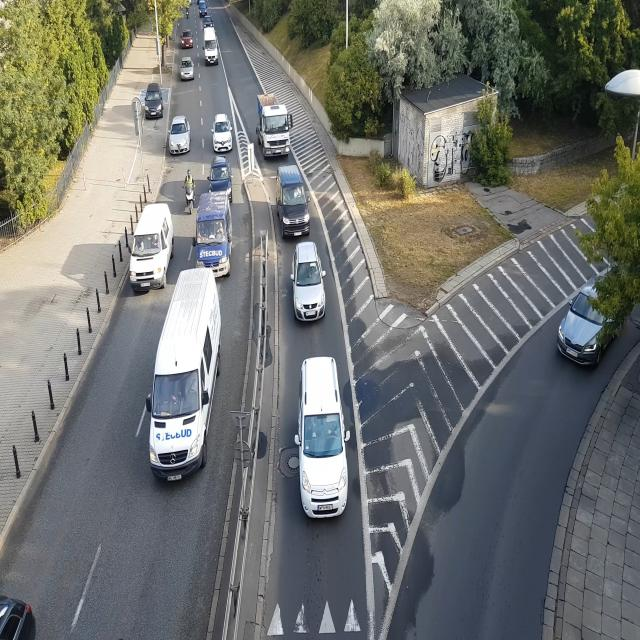car: (143, 274, 230, 502), (289, 352, 355, 524), (554, 258, 624, 379), (118, 192, 179, 295), (290, 239, 332, 326), (193, 192, 234, 278), (272, 160, 314, 239), (167, 113, 194, 160), (137, 80, 167, 122), (209, 109, 234, 157), (210, 154, 236, 198), (204, 26, 218, 68), (179, 56, 195, 84), (179, 26, 195, 51), (198, 1, 209, 18), (203, 15, 214, 30)
motorcycle: (182, 169, 198, 214), (183, 4, 192, 21)
truck: (252, 89, 296, 162)
